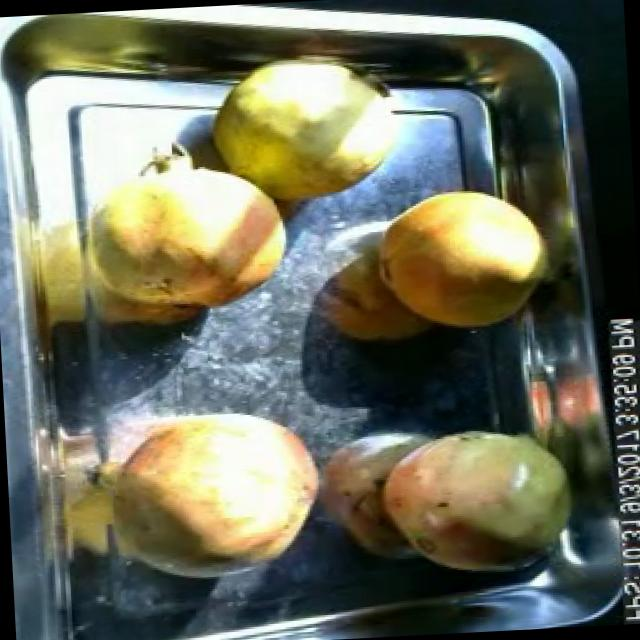fruit: (76, 390, 334, 597), (69, 121, 307, 323), (365, 414, 587, 582), (197, 43, 411, 216), (362, 178, 562, 340)
